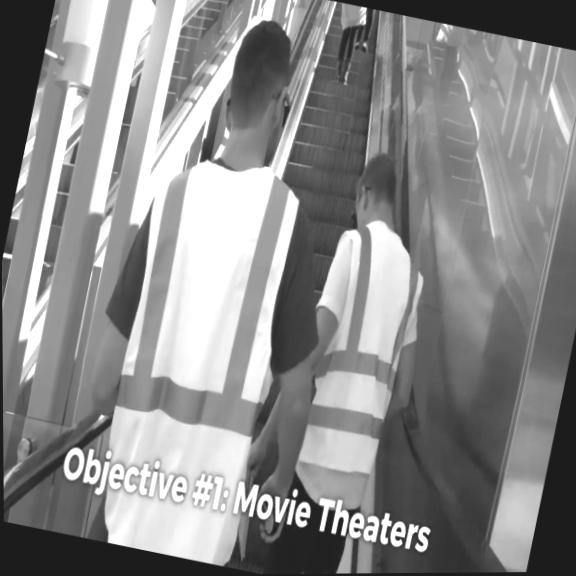safety_vest: (80, 141, 315, 568), (289, 210, 435, 481)
